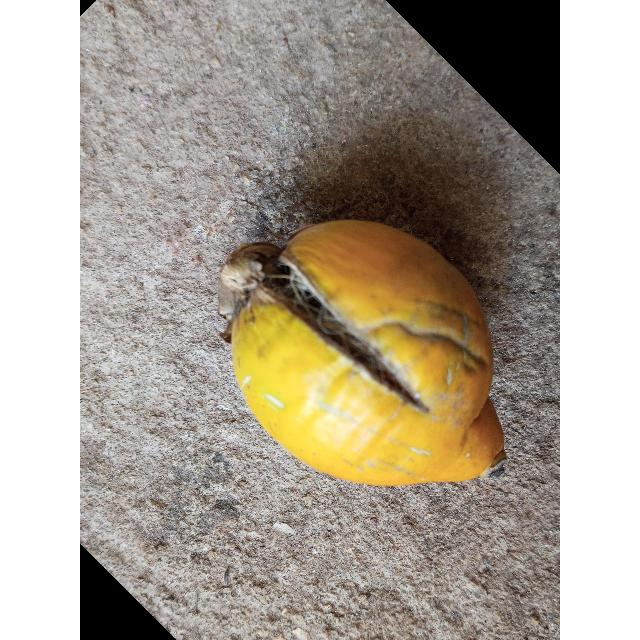damaged: (218, 220, 505, 485)
